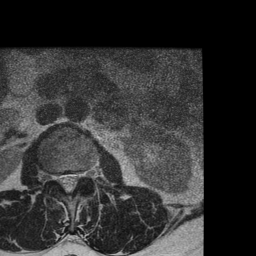CCS_normal: (65, 167, 72, 204)
LFS_normal: (78, 165, 86, 184)
LLS_normal: (72, 167, 79, 191)
RFS_normal: (50, 167, 57, 188)
RLS_normal: (57, 169, 65, 192)
